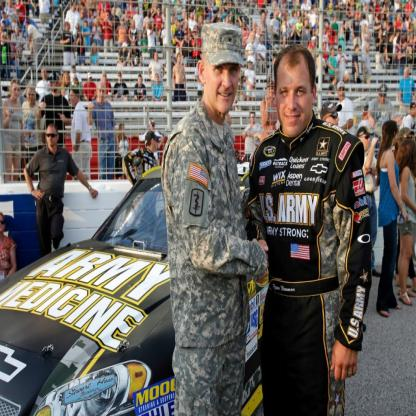Car: (0, 165, 270, 415)
